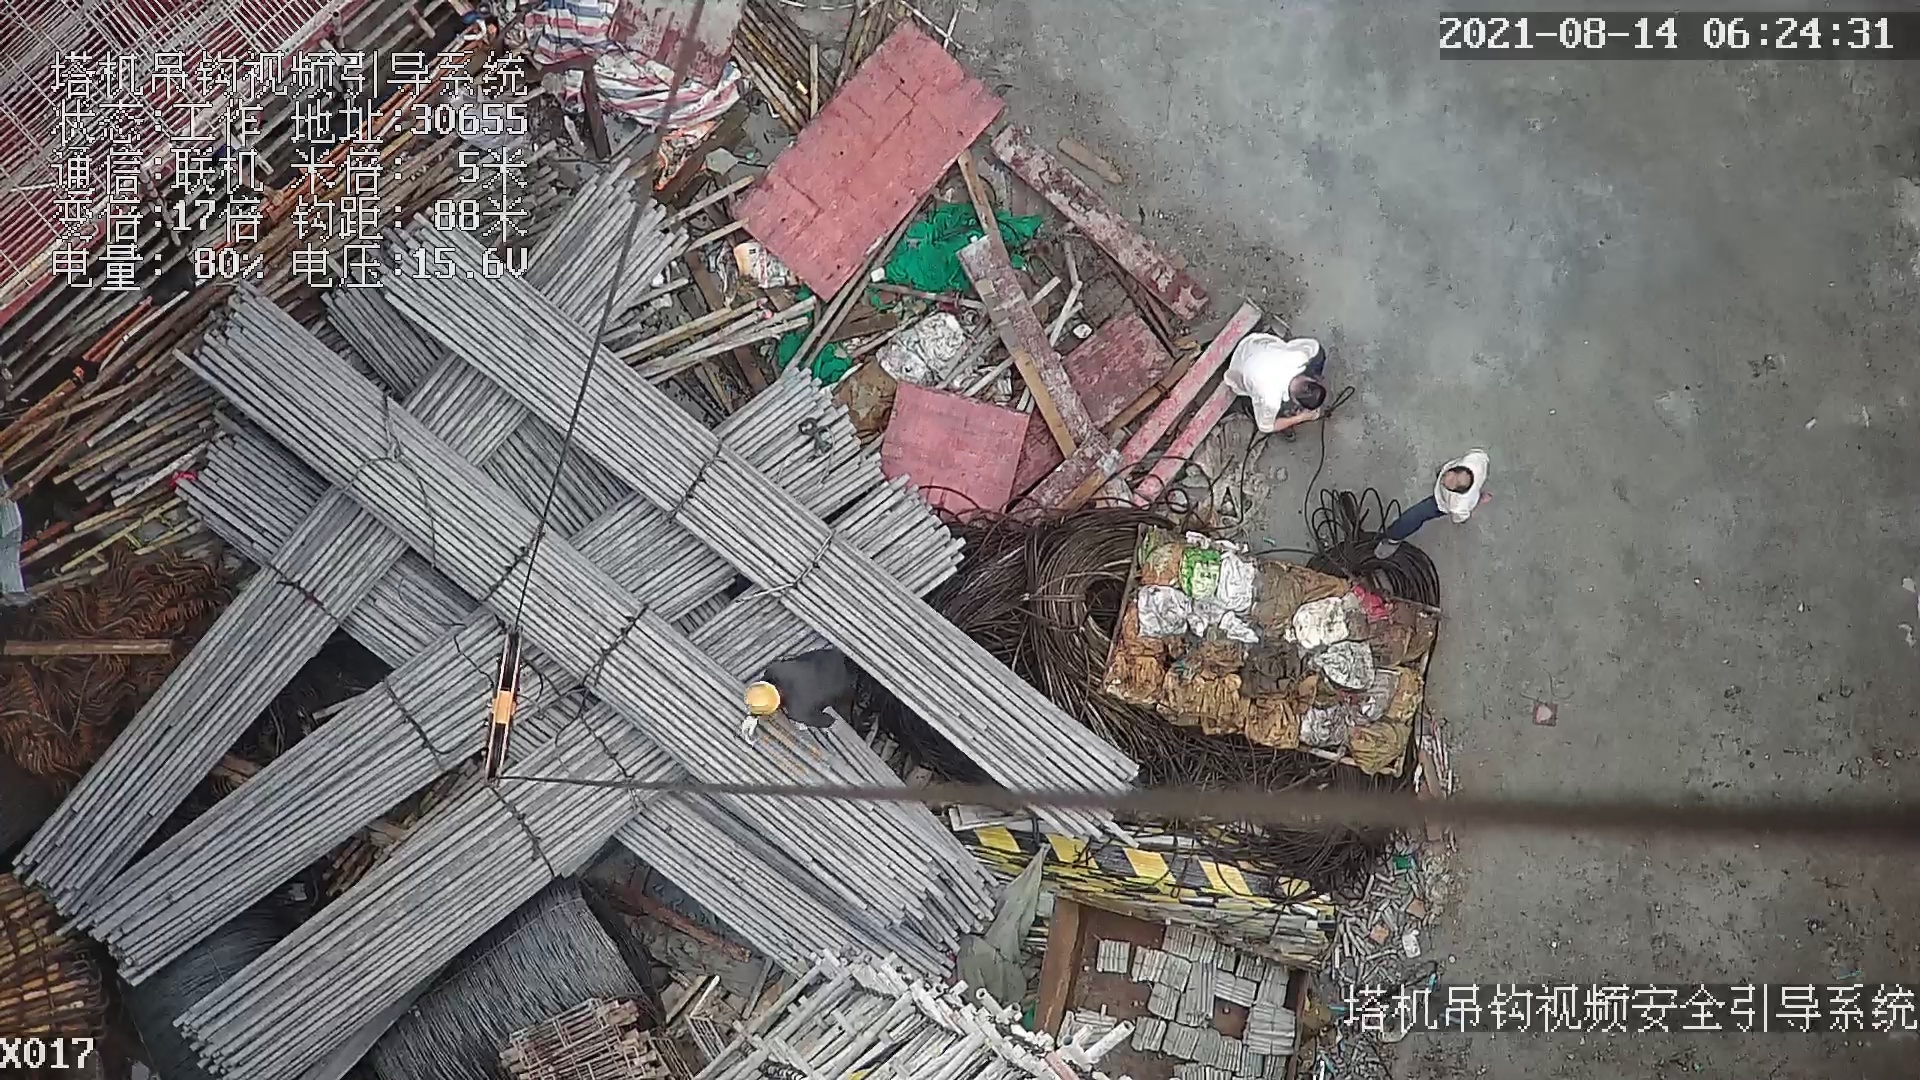helmet: (744, 670, 786, 724)
hook: (476, 622, 533, 799)
person: (1377, 446, 1496, 554), (1218, 324, 1327, 439), (741, 645, 859, 740)
